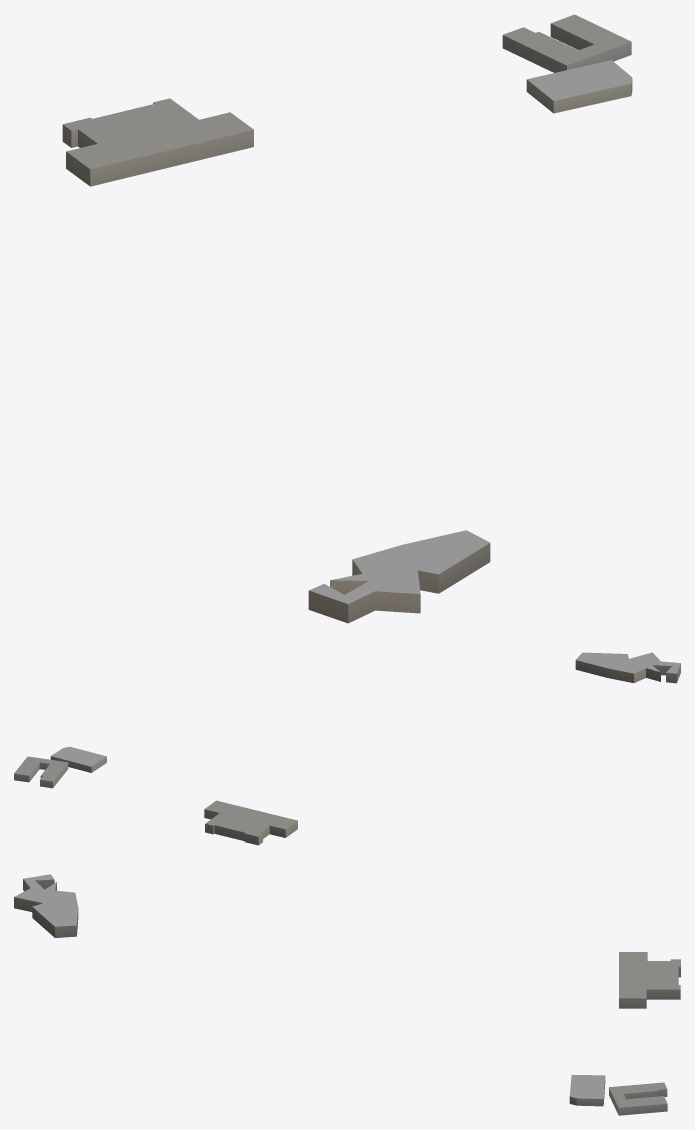
File: bld_12_1.fbx
The picture shows the model from 3 angles, top to bottom: view 1: azimuth 30°, elevation 25°; view 2: azimuth 150°, elevation 25°; view 3: azimuth 270°, elevation 25°; orthographic projection. The views are drawn at different scales.
Visible parts, largest first — view 1: bld_12_1_LOD0; view 2: bld_12_1_LOD0; view 3: bld_12_1_LOD0.
Part boxes in pixels (left/top/right/bottom): bld_12_1_LOD0: left=62, top=14, right=632, bottom=623; bld_12_1_LOD0: left=14, top=652, right=680, bottom=845; bld_12_1_LOD0: left=14, top=874, right=680, bottom=1115.
Size of the model in its own units: 564 by 12.85 by 690.
